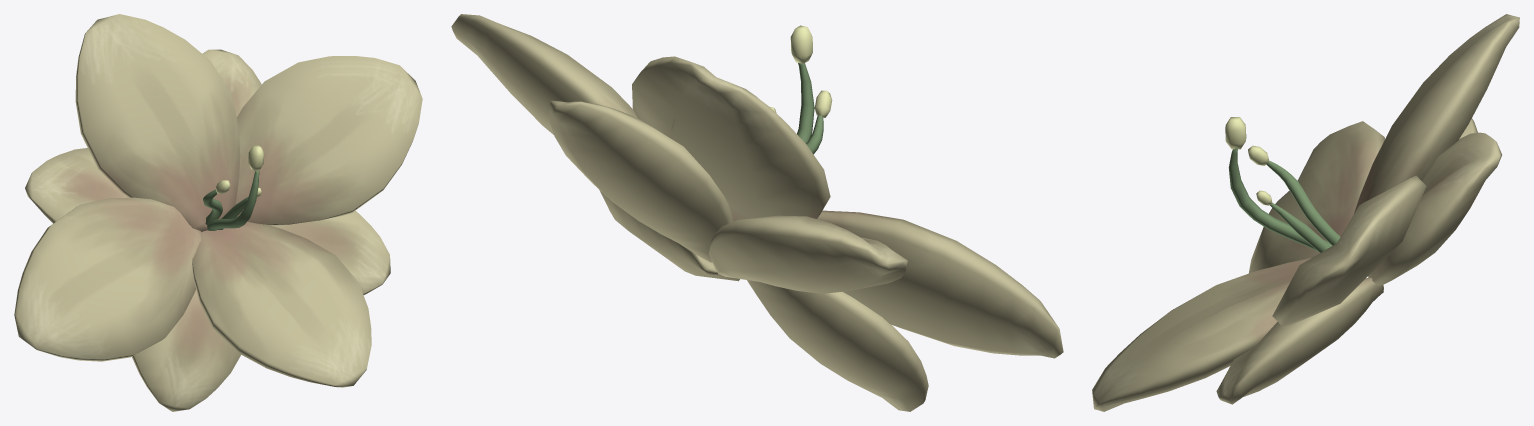
The model's file is yellow flower without stem.fbx.
3 renders of one model, left to right at view 1: azimuth 30°, elevation 25°; view 2: azimuth 150°, elevation 25°; view 3: azimuth 270°, elevation 25°, orthographic. The views are drawn at different scales.
Visible parts, largest first — view 1: Sphere.028, Cube.018; view 2: Sphere.028, Cube.018; view 3: Sphere.028, Cube.018.
Part boxes in pixels (x1,y1,x2,y2): Sphere.028: (14, 14, 422, 411); Cube.018: (203, 145, 264, 230); Sphere.028: (451, 14, 1063, 411); Cube.018: (770, 25, 832, 154); Sphere.028: (1092, 14, 1519, 411); Cube.018: (1225, 117, 1340, 252).
Size of the model in its own units: 23.05 by 16.48 by 16.22.
